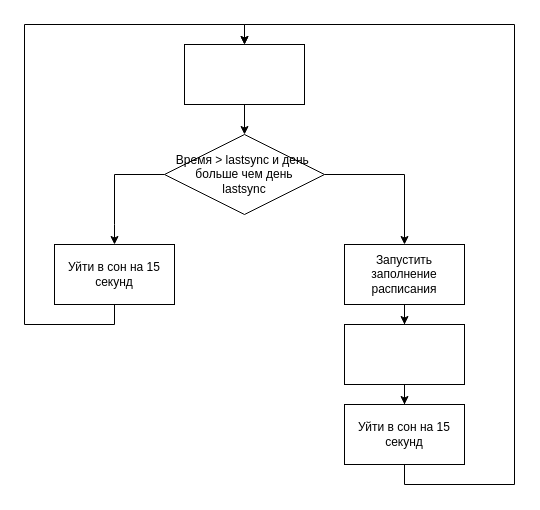
This 540x510 diagram has some shape labels left out. The shapes that lost their labels are listed below. From the top down, each one's box as (x1, y1, x2, y2) in pixels, then its label:
(184, 44, 304, 104): Проверить текущее время
(344, 324, 464, 384): Обновить lastsync
